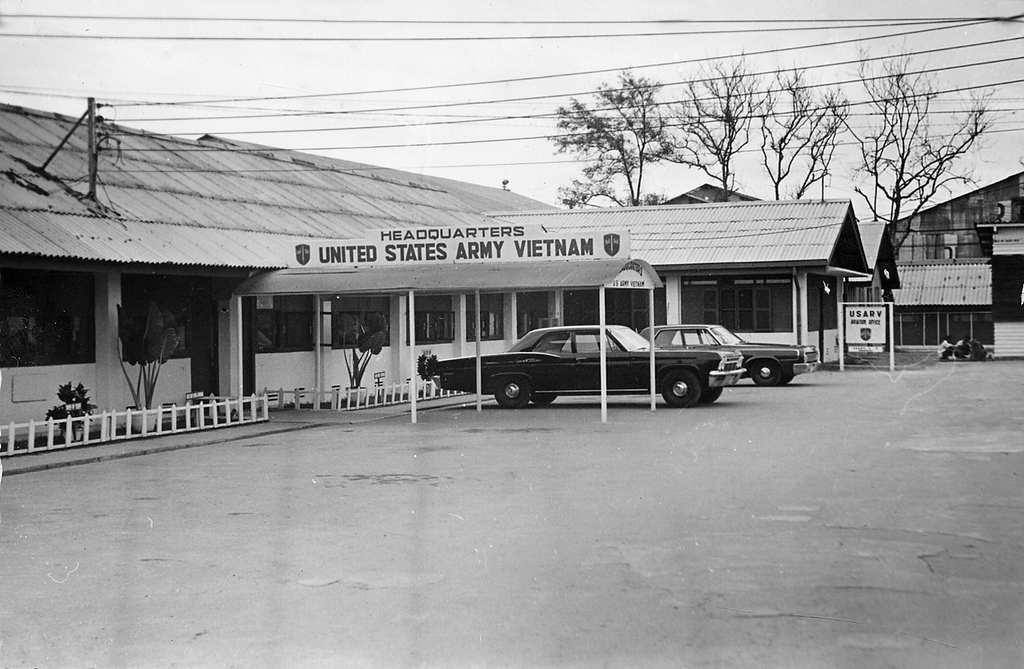Car: (431, 323, 745, 408), (592, 321, 820, 382)
